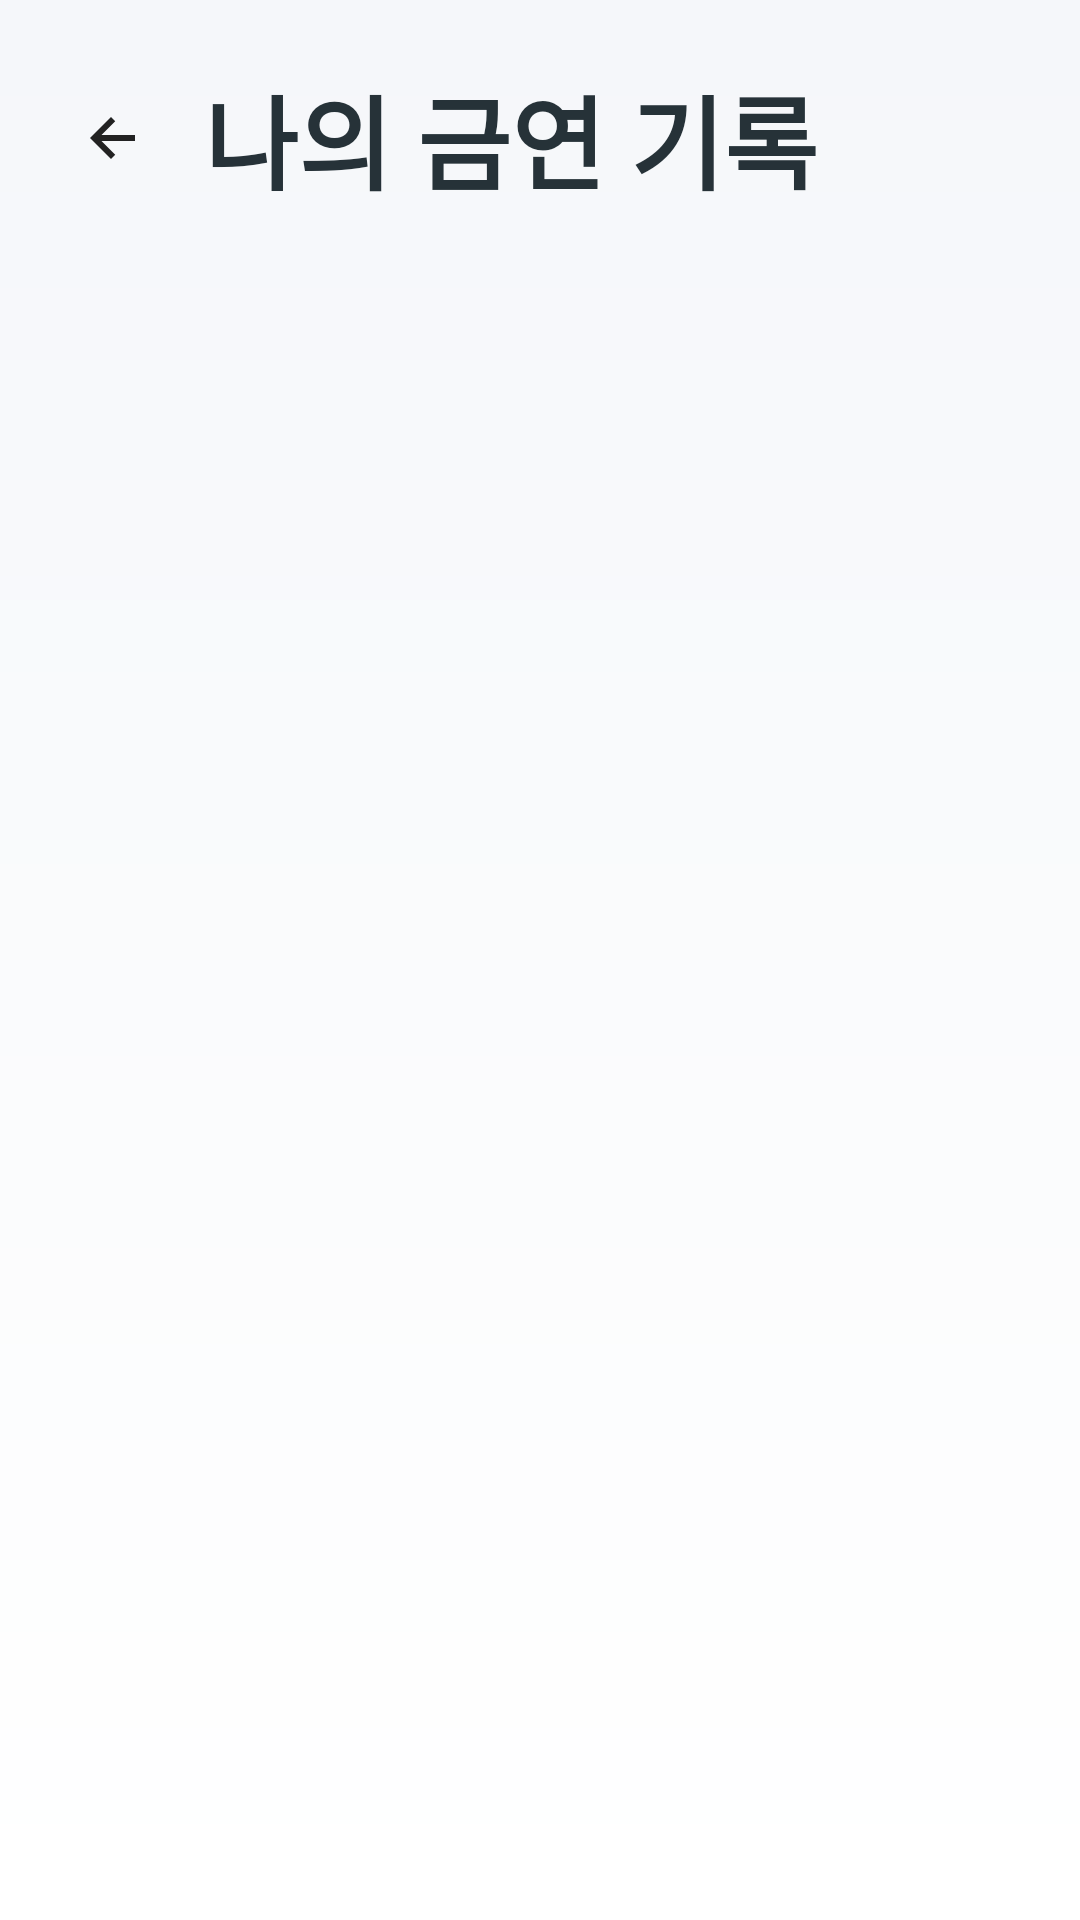

Icon click points for this 1080 × 1920 phone screenshot, format point (x, y):
Back: point (112, 138)
